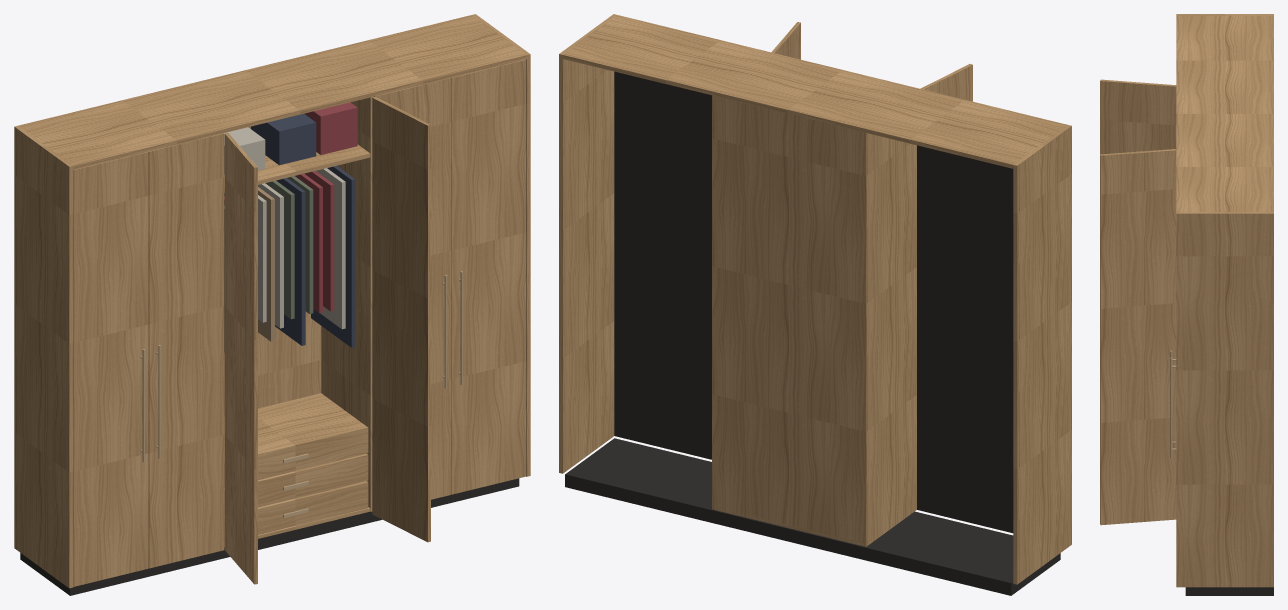
Rendered from armadio.glb.
3 renders of one model, left to right at view 1: azimuth 30°, elevation 25°; view 2: azimuth 150°, elevation 25°; view 3: azimuth 270°, elevation 25°, orthographic. The views are drawn at different scales.
Visible parts, largest first — view 1: finitura, schienale, tessuto0, tessuto4, tessuto3, zoccolo, tessuto5, bronzo, tessuto1; view 2: zoccolo, schienale, finitura; view 3: finitura, zoccolo, bronzo.
Boxes of the visible parts, x1,y1,x2,y2 form: finitura: (14, 14, 530, 588); schienale: (224, 96, 373, 546); tessuto0: (251, 113, 355, 347); tessuto4: (224, 127, 345, 329); tessuto3: (224, 102, 357, 313); zoccolo: (20, 478, 519, 595); tessuto5: (224, 176, 313, 352); bronzo: (140, 271, 462, 517); tessuto1: (258, 187, 274, 341); zoccolo: (565, 71, 1060, 595); schienale: (712, 95, 916, 546); finitura: (559, 14, 1071, 584); finitura: (1100, 14, 1273, 587); zoccolo: (1185, 587, 1273, 595); bronzo: (1170, 350, 1176, 458).
Bounding box in the file's own units: 3 × 2.7 × 1.1.
11 materials, 2 textured.
